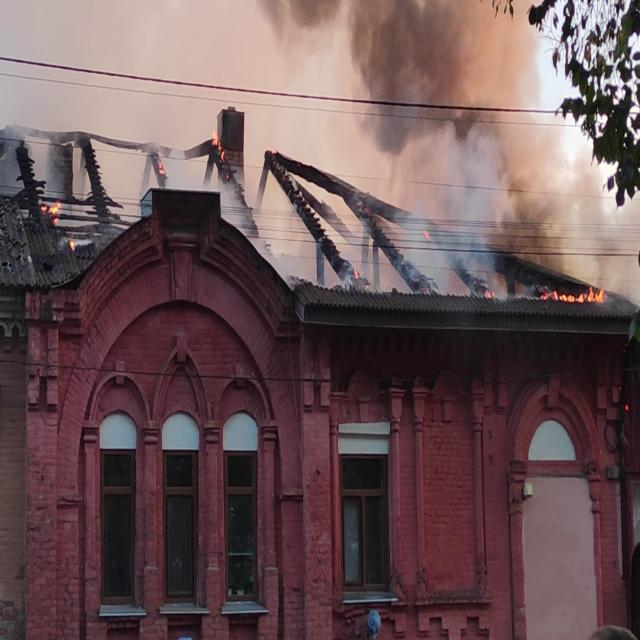fire: (531, 238, 610, 306)
smoke: (356, 0, 540, 224)
